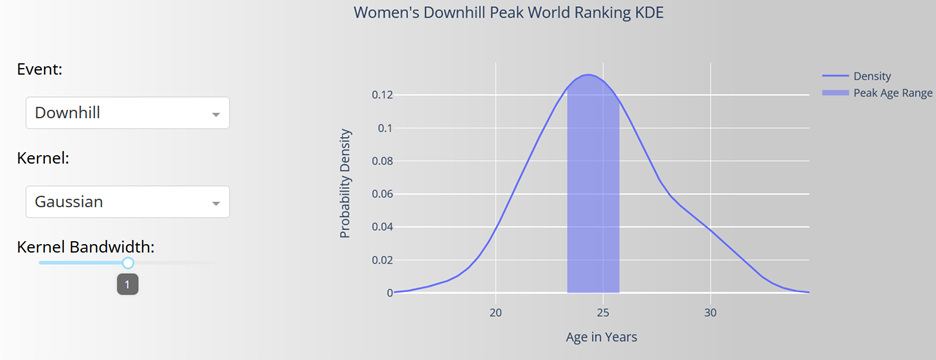

Layout of this report page (visuals, bound fields, positions):
{"tool":"tableau","page":{"name":"Dashboard 1","canvas":[1000,1000],"units":"permille","ordinal":0},"visuals":[{"type":"worksheet","title":"Sheet 1","mark":"Automatic","box":[2.1,4.2,888.5,991.5]},{"type":"filter","title":"Sheet 1","param":"[federated.146amrn0jlxjl911misc91clc58j].[none:Medal:ok]","box":[890.6,4.2,107.3,47.2]},{"type":"filter","title":"Sheet 1","param":"[federated.146amrn0jlxjl911misc91clc58j].[none:USOC Master Competition Set Name:","box":[890.6,51.4,107.3,150.1]},{"type":"legend","title":"Sheet 1","param":"[federated.146amrn0jlxjl911misc91clc58j].[cnt:Medal:qk]","box":[890.6,201.5,107.3,43]},{"type":"filter","title":"Sheet 1","param":"[federated.146amrn0jlxjl911misc91clc58j].[none:Event Gender:nk]","box":[890.6,244.4,107.3,64.2]},{"type":"filter","title":"Sheet 1","param":"[federated.146amrn0jlxjl911misc91clc58j].[none:Event Name Short:nk]","box":[890.6,308.6,107.3,121.4]}]}

Visuals, with their boxes on the dashboard's canvas, which has no fixed pixel size, in thousandths of its width and height (x1, y1, x2, y2). These are canvas units, not pixel positions in the 936x360 screenshot, which may show the page scaled, cropped or inside an application window:
"Sheet 1" worksheet: 2, 4, 891, 996
"Sheet 1" filter: 891, 4, 998, 51
"Sheet 1" filter: 891, 51, 998, 202
"Sheet 1" legend: 891, 202, 998, 244
"Sheet 1" filter: 891, 244, 998, 309
"Sheet 1" filter: 891, 309, 998, 430
